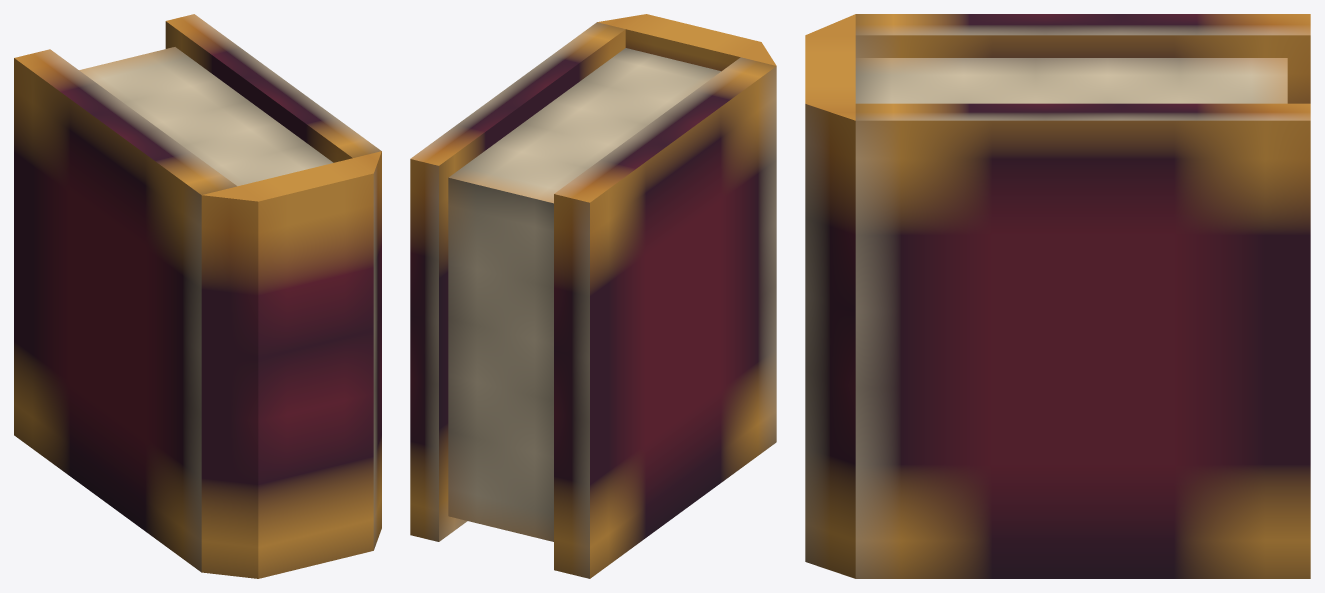
Rendered from BookClosedRed.fbx.
3 renders of one model, left to right at view 1: azimuth 30°, elevation 25°; view 2: azimuth 150°, elevation 25°; view 3: azimuth 270°, elevation 25°, orthographic. The views are drawn at different scales.
Visible parts, largest first — view 1: Book; view 2: Book; view 3: Book.
Boxes of the visible parts, left/top/right/bottom form: Book: left=14, top=14, right=381, bottom=578; Book: left=410, top=14, right=776, bottom=578; Book: left=805, top=14, right=1310, bottom=578.
Size of the model in its own units: 0.1875 by 0.375 by 0.375.
